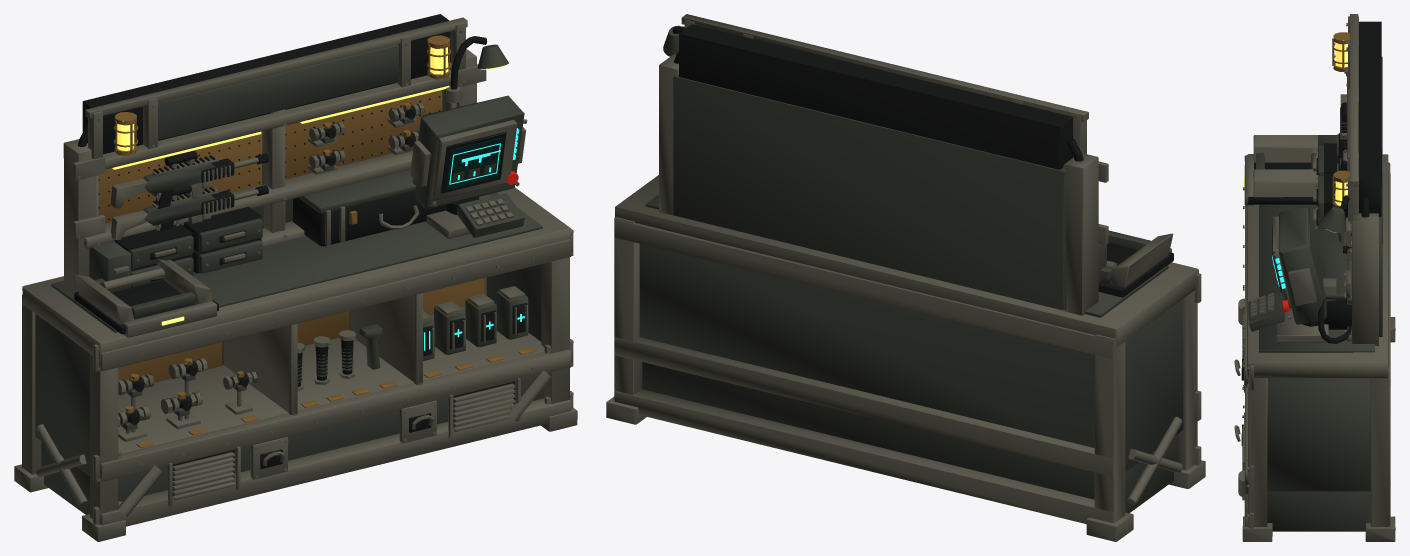
File: upgrade_bench.glb
The picture shows the model from 3 angles, left to right: view 1: azimuth 30°, elevation 25°; view 2: azimuth 150°, elevation 25°; view 3: azimuth 270°, elevation 25°; orthographic projection. The views are drawn at different scales.
Visible parts, largest first — view 1: upgrade_bench; view 2: upgrade_bench; view 3: upgrade_bench.
Part boxes in pixels (box(x1,y1,x2,y2)): upgrade_bench: box(14, 14, 577, 541); upgrade_bench: box(606, 14, 1205, 541); upgrade_bench: box(1234, 14, 1395, 541).
Bounding box in the file's own units: 2.83 × 2.11 × 0.9091.
1 material, 1 textured.
